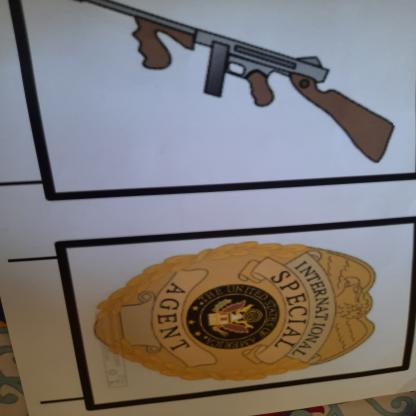Bootlegger: (60, 1, 416, 176)
G-man: (72, 237, 396, 385)
